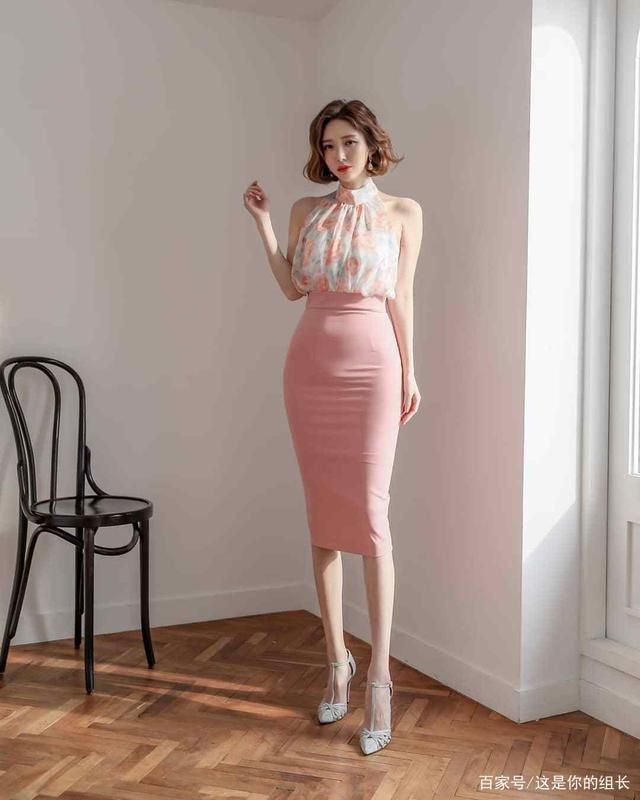person: (231, 74, 461, 727)
